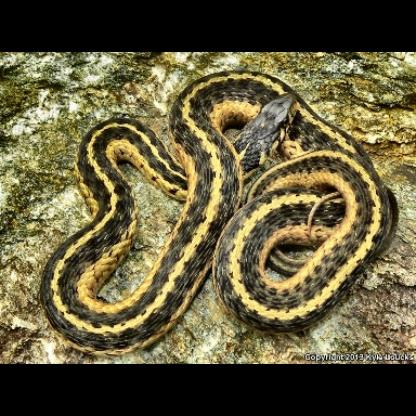Snake: (38, 72, 400, 356)
